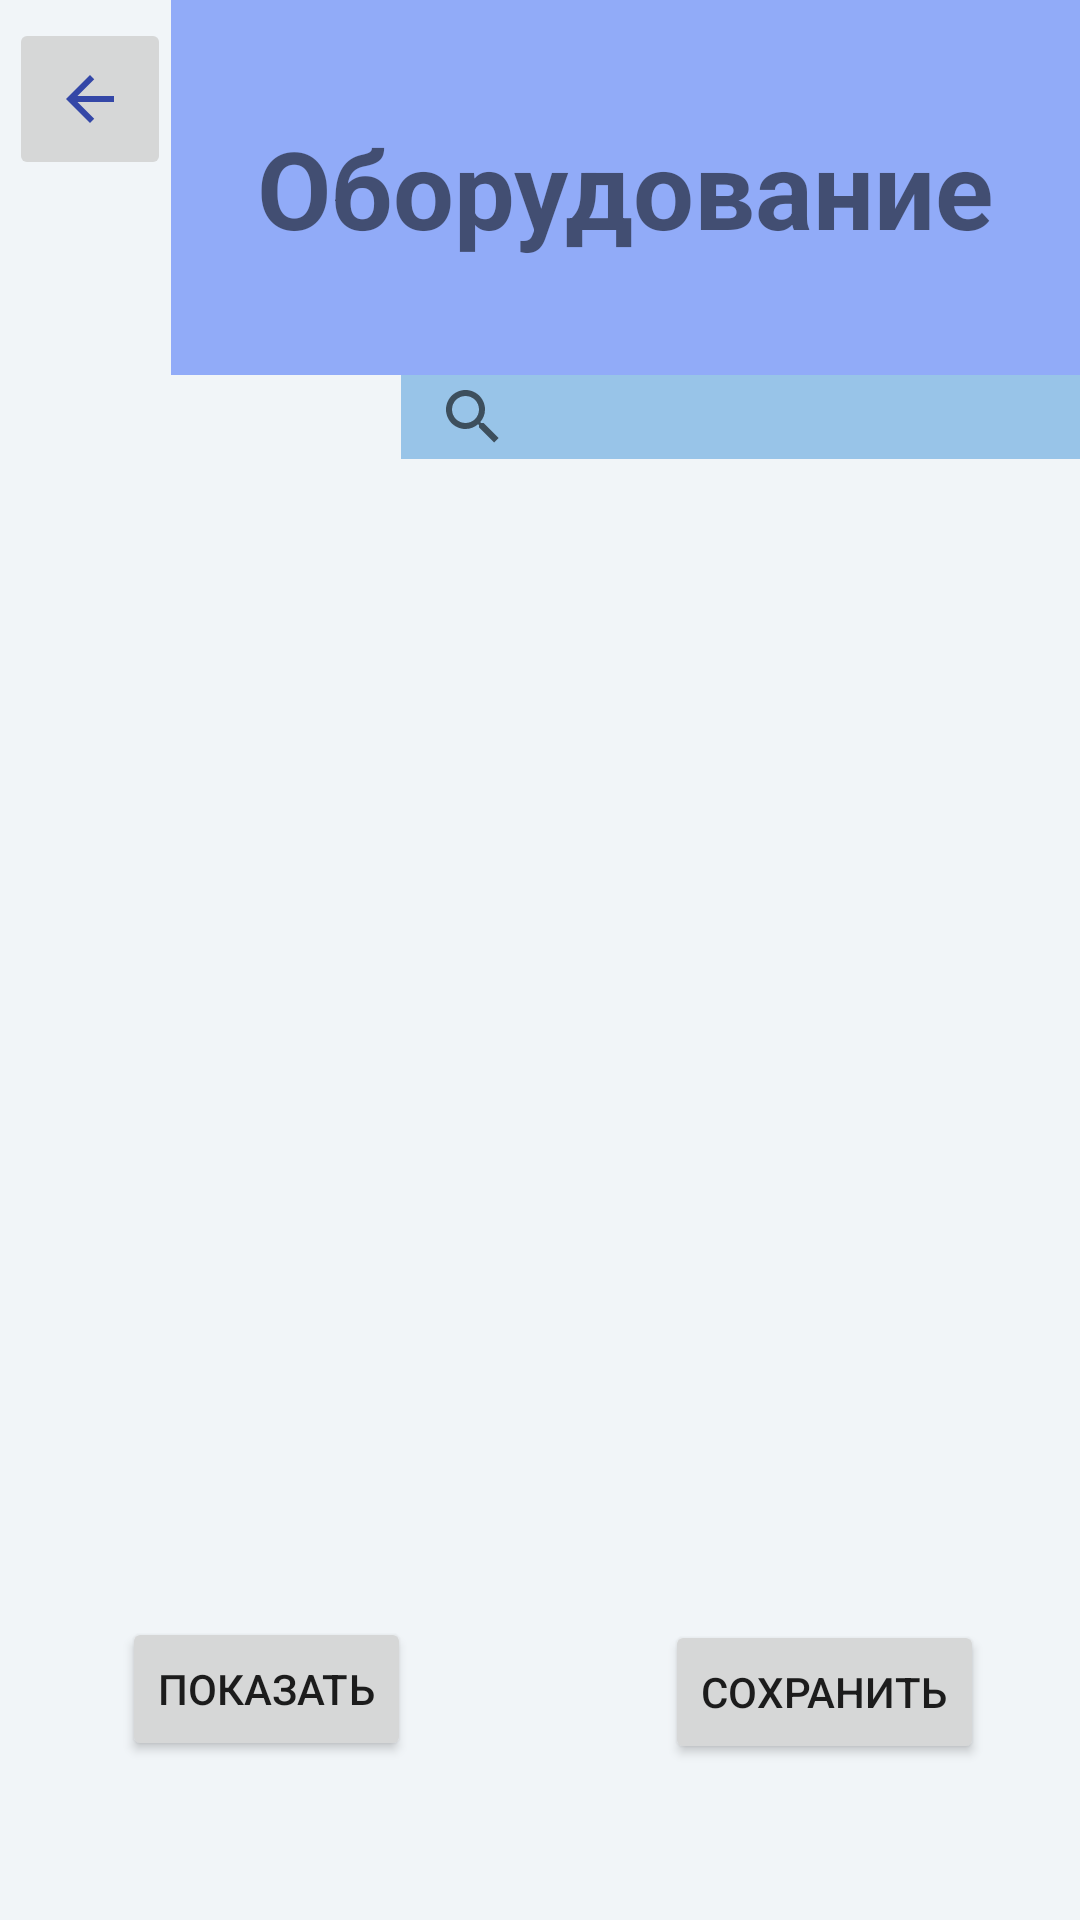

Screen size 1080x1920. Icon name, then its center in pixels as [x,y]:
arrow back: [90,99]
